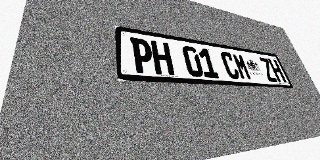0: (181, 45, 204, 77)
1: (197, 47, 219, 78)
C: (219, 51, 241, 80)
H: (150, 40, 175, 75), (268, 58, 287, 82)
M: (231, 53, 253, 80)
P: (130, 37, 155, 74)
Z: (258, 57, 278, 82)
